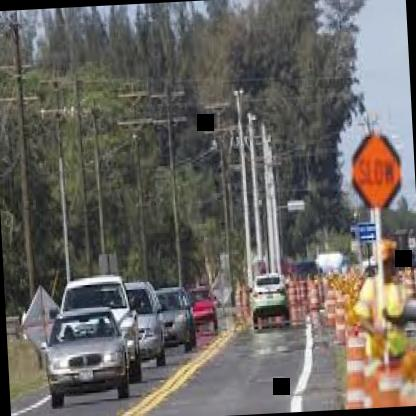car: (48, 245, 142, 390), (36, 294, 136, 410), (118, 261, 169, 376), (153, 273, 199, 363), (243, 265, 294, 331), (183, 275, 228, 346)
